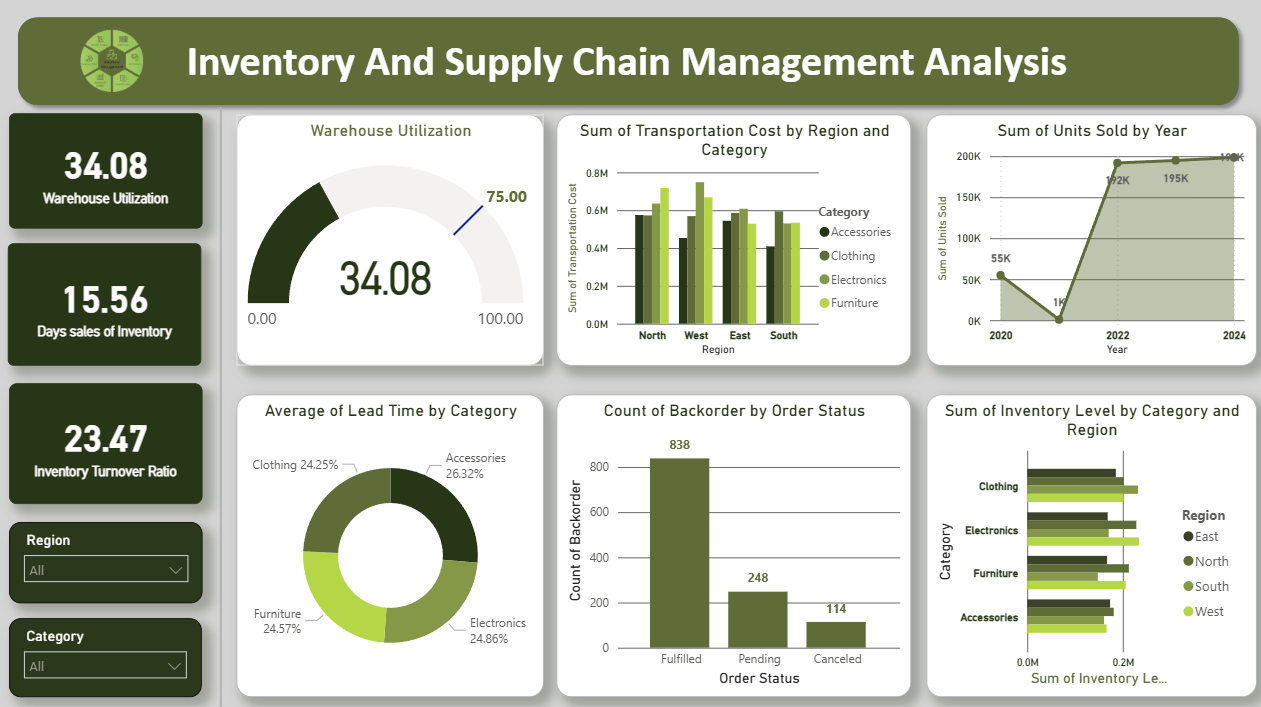

The page's visual inventory and layout, read from the dashboard file:
{"tool":"powerbi","page":{"name":"Page 1","canvas":[1280,720],"ordinal":0},"visuals":[{"type":"shape","box":[9.6,11,1254.2,107],"z":0},{"type":"textbox","box":[166,32.9,940,64.5],"z":1000},{"type":"image","box":[50.8,19.2,127.6,91.9],"z":2000},{"type":"shape","box":[219,111.4,11.4,608.9],"z":3000},{"type":"card","fields":{"Values":["Inventory and Supply Chain Dataset.Warehouse Utilization"]},"box":[9.6,118,196.2,116.6],"z":4000},{"type":"card","fields":{"Values":["Inventory and Supply Chain Dataset.Days sales of Inventory"]},"box":[8.9,249.4,196.2,124.1],"z":5000},{"type":"card","fields":{"Values":["Inventory and Supply Chain Dataset.Inventory Turnover Ratio"]},"box":[10.1,391.1,196.2,122.8],"z":6000},{"type":"slicer","fields":{"Values":["Inventory and Supply Chain Dataset.Region"]},"box":[10.1,531.6,196.2,82.3],"z":7000},{"type":"slicer","fields":{"Values":["Inventory and Supply Chain Dataset.Category"]},"box":[10.1,629.1,194.9,79.7],"z":8000},{"type":"gauge","fields":{"Y":["Inventory and Supply Chain Dataset.Warehouse Utilization"]},"box":[240.5,119,311.4,254.4],"z":9000},{"type":"clusteredColumnChart","fields":{"Y":["Sum(Inventory and Supply Chain Dataset.Transportation Cost)"],"Category":["Inventory and Supply Chain Dataset.Region"],"Series":["Inventory and Supply Chain Dataset.Category"]},"box":[564.6,119,359.5,254.4],"z":10000},{"type":"lineChart","fields":{"Y":["Sum(Inventory and Supply Chain Dataset.Units Sold)"],"Category":["Inventory and Supply Chain Dataset.Date.Variation.Date Hierarchy.Year"]},"box":[939.2,119,334.2,254.4],"z":11000},{"type":"donutChart","fields":{"Y":["Avg(Inventory and Supply Chain Dataset.Lead Time)"],"Category":["Inventory and Supply Chain Dataset.Category"]},"box":[240.5,402.5,311.4,306.3],"z":12000},{"type":"columnChart","fields":{"Y":["CountNonNull(Inventory and Supply Chain Dataset.Backorder)"],"Category":["Inventory and Supply Chain Dataset.Order Status"]},"box":[565,403,359,306],"z":13000},{"type":"clusteredBarChart","fields":{"Y":["Sum(Inventory and Supply Chain Dataset.Inventory Level)"],"Category":["Inventory and Supply Chain Dataset.Category"],"Series":["Inventory and Supply Chain Dataset.Region"]},"box":[939,403,334,306],"z":14000}]}

Visuals, with their boxes in screenshot pixels (x1, y1, x2, y2), scaled from the page's 1280x720 canvas onto the 1261x707 screenshot:
shape: 9, 11, 1245, 116
textbox: 164, 32, 1090, 96
image: 50, 19, 176, 109
shape: 216, 109, 227, 706
card - Inventory and Supply Chain Dataset.Warehouse Utilization: 9, 116, 203, 230
card - Inventory and Supply Chain Dataset.Days sales of Inventory: 9, 245, 202, 367
card - Inventory and Supply Chain Dataset.Inventory Turnover Ratio: 10, 384, 203, 505
slicer - Inventory and Supply Chain Dataset.Region: 10, 522, 203, 603
slicer - Inventory and Supply Chain Dataset.Category: 10, 618, 202, 696
gauge - Inventory and Supply Chain Dataset.Warehouse Utilization: 237, 117, 544, 367
clusteredColumnChart - Sum(Inventory and Supply Chain Dataset.Transportation Cost) x Inventory and Supply Chain Dataset.Region: 556, 117, 910, 367
lineChart - Sum(Inventory and Supply Chain Dataset.Units Sold) x Inventory and Supply Chain Dataset.Date.Variation.Date Hierarchy.Year: 925, 117, 1254, 367
donutChart - Avg(Inventory and Supply Chain Dataset.Lead Time) x Inventory and Supply Chain Dataset.Category: 237, 395, 544, 696
columnChart - CountNonNull(Inventory and Supply Chain Dataset.Backorder) x Inventory and Supply Chain Dataset.Order Status: 557, 396, 910, 696
clusteredBarChart - Sum(Inventory and Supply Chain Dataset.Inventory Level) x Inventory and Supply Chain Dataset.Category: 925, 396, 1254, 696
